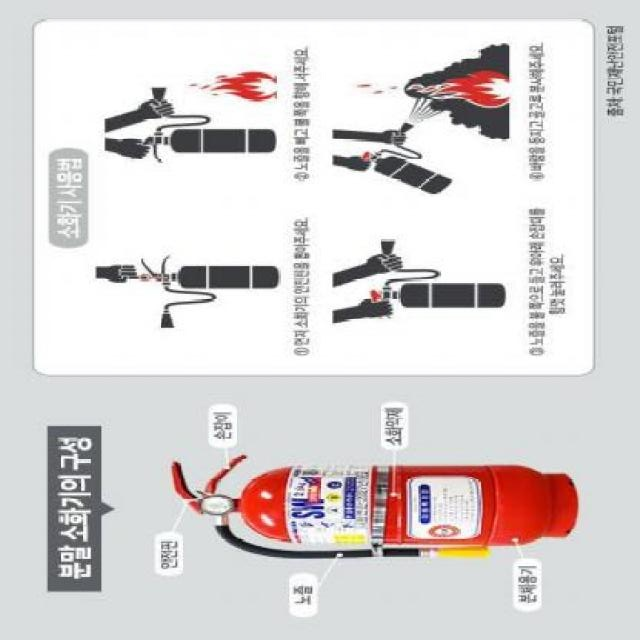fire extinguisher: (170, 455, 578, 561)
